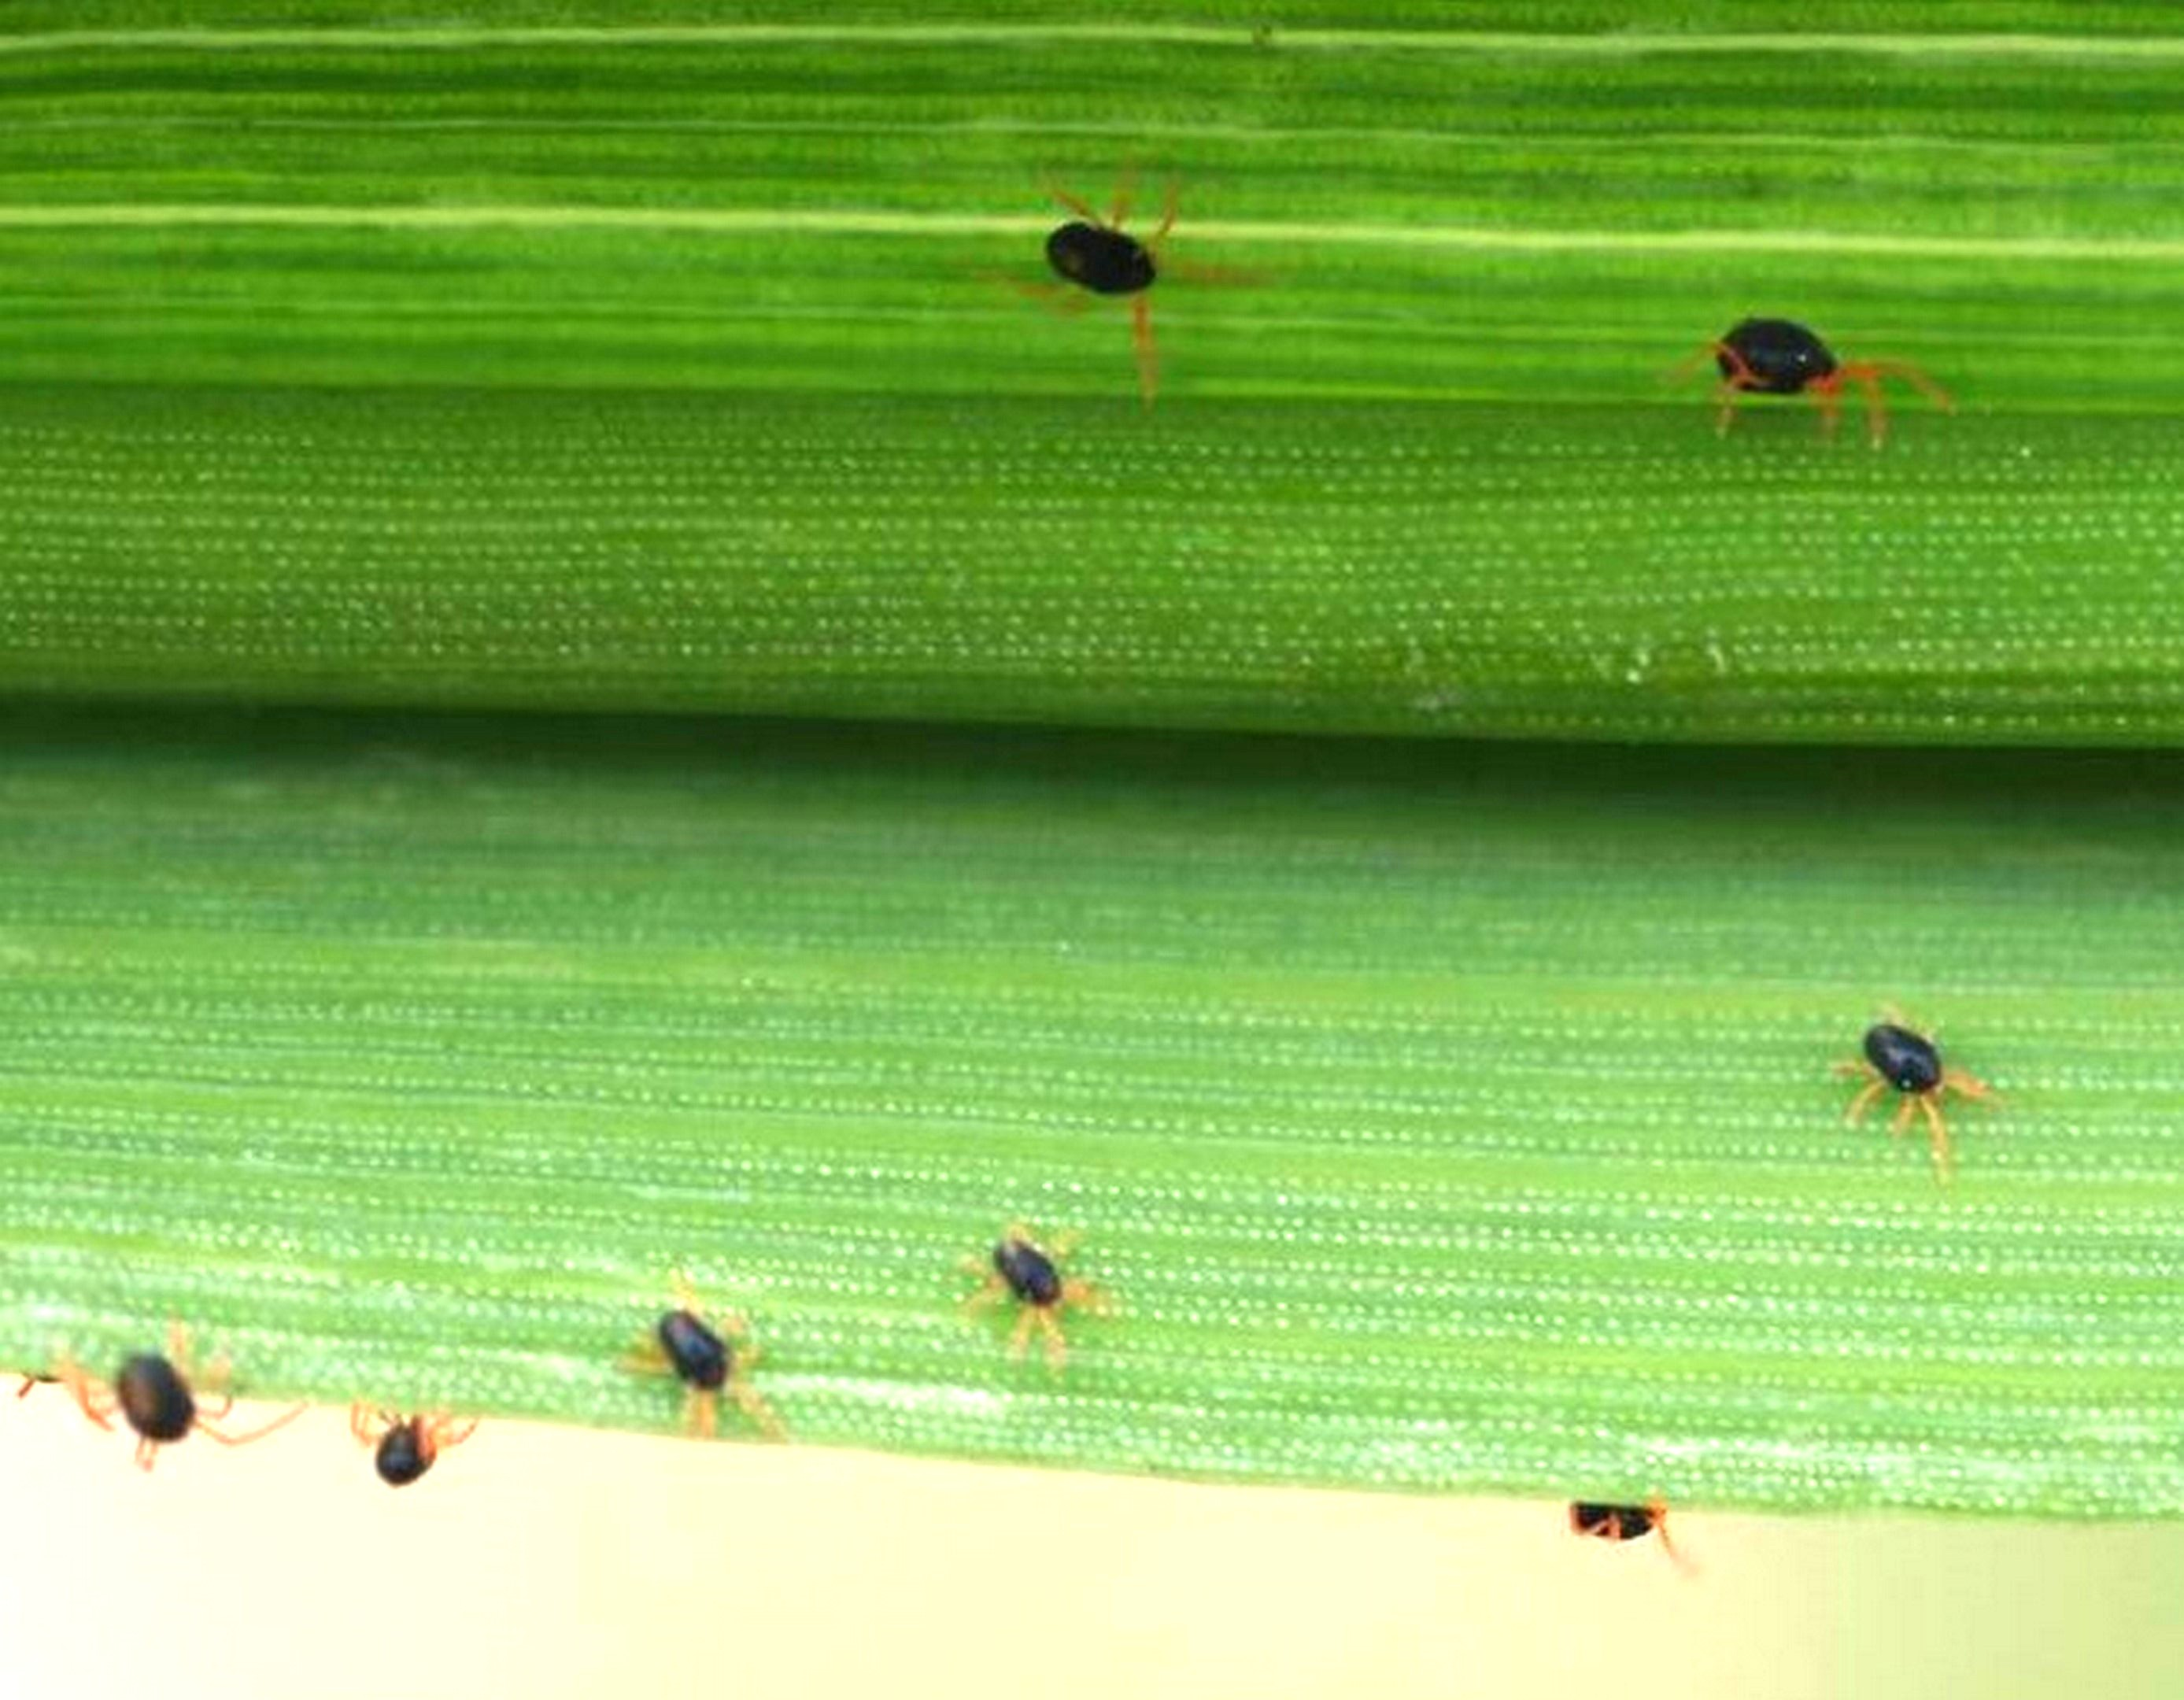Wheat Red Spider: (1650, 292, 1975, 473), (1819, 977, 2014, 1181)
